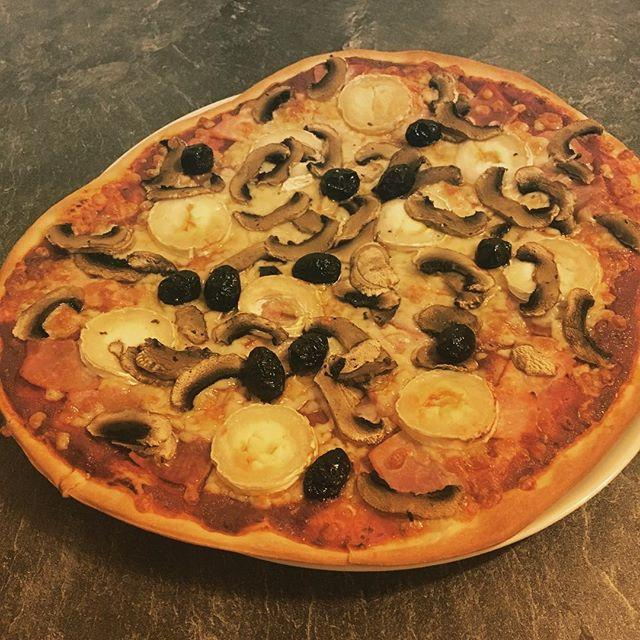champignon: (351, 462, 474, 522), (472, 165, 561, 233), (407, 243, 499, 295), (85, 408, 180, 458), (14, 284, 86, 346), (565, 288, 613, 373), (517, 235, 561, 322), (227, 141, 285, 204), (42, 219, 137, 254), (261, 227, 347, 254)
